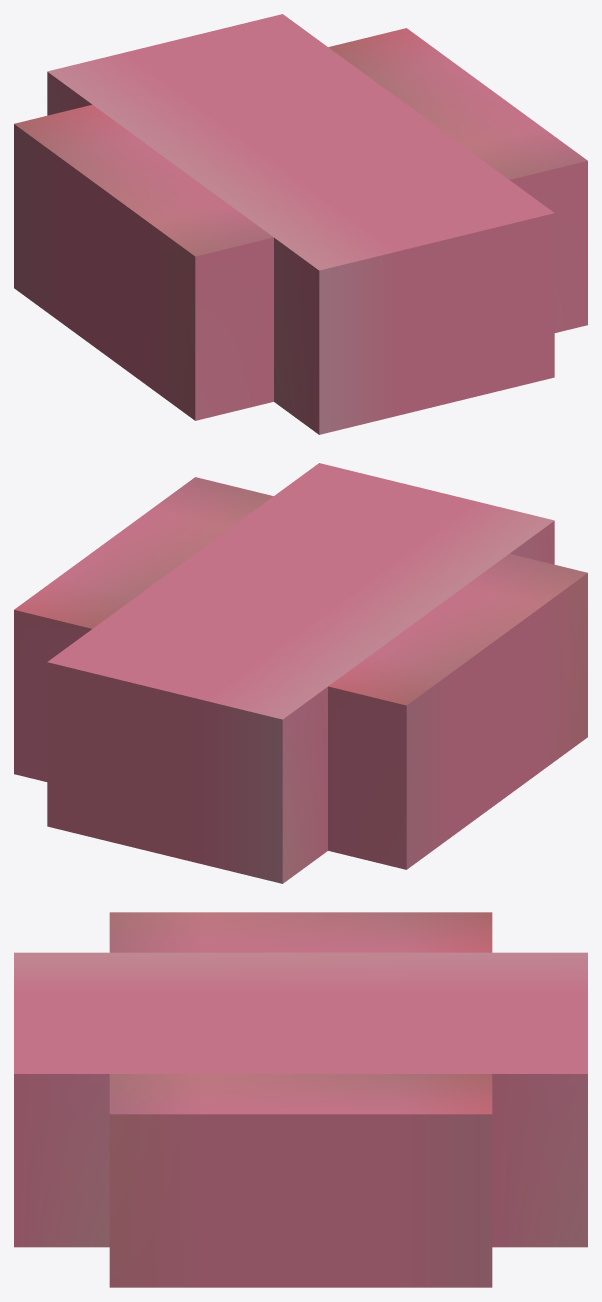
The model's file is PillowSmallPink_03.fbx.
3 views of the same model, one above another, from view 1: azimuth 30°, elevation 25°; view 2: azimuth 150°, elevation 25°; view 3: azimuth 270°, elevation 25° (orthographic). The views are drawn at different scales.
Visible parts, largest first — view 1: PillowSmallPink_03; view 2: PillowSmallPink_03; view 3: PillowSmallPink_03.
Part boxes in pixels (<box>): PillowSmallPink_03: <box>14,14,587,434</box>; PillowSmallPink_03: <box>14,463,587,883</box>; PillowSmallPink_03: <box>14,912,587,1287</box>.
Size of the model in its own units: 25 by 30 by 10.
1 material, 1 textured.
